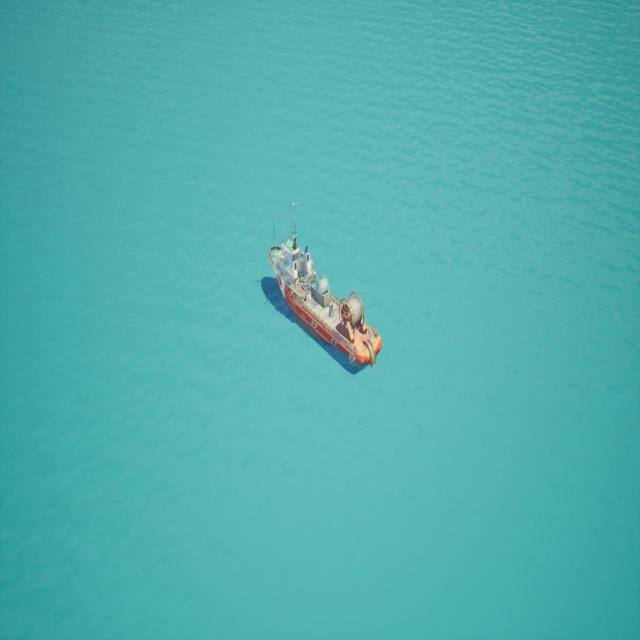tug boat: (263, 203, 368, 377)
